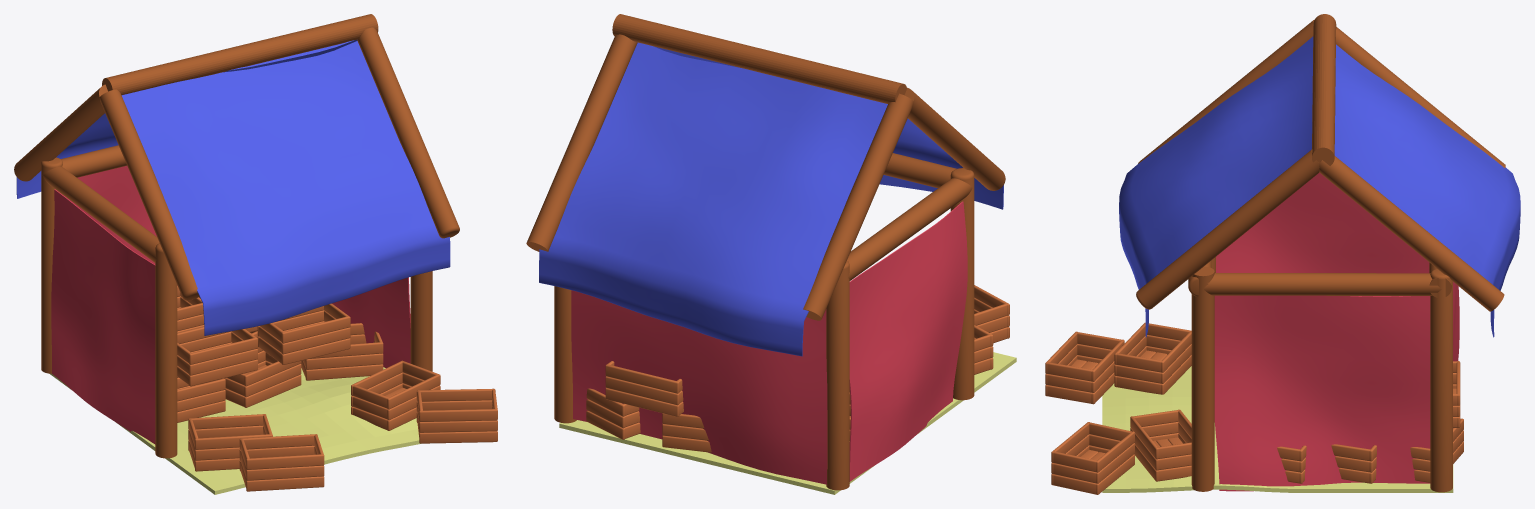
Rendered from granary.fbx.
3 renders of one model, left to right at view 1: azimuth 30°, elevation 25°; view 2: azimuth 150°, elevation 25°; view 3: azimuth 270°, elevation 25°, orthographic. The views are drawn at different scales.
Visible parts, largest first — view 1: Cylinder.009, Cube.014; view 2: Cylinder.009, Cube.014; view 3: Cylinder.009, Cube.014.
Boxes of the visible parts, x1,y1,x2,y2 form: Cylinder.009: (14,14,459,494); Cube.014: (177,286,497,491); Cylinder.009: (526,14,1016,494); Cube.014: (586,285,1009,452); Cylinder.009: (1102,14,1520,492); Cube.014: (1045,322,1463,494).
Size of the model in its own units: 3024 by 3359 by 4146.
